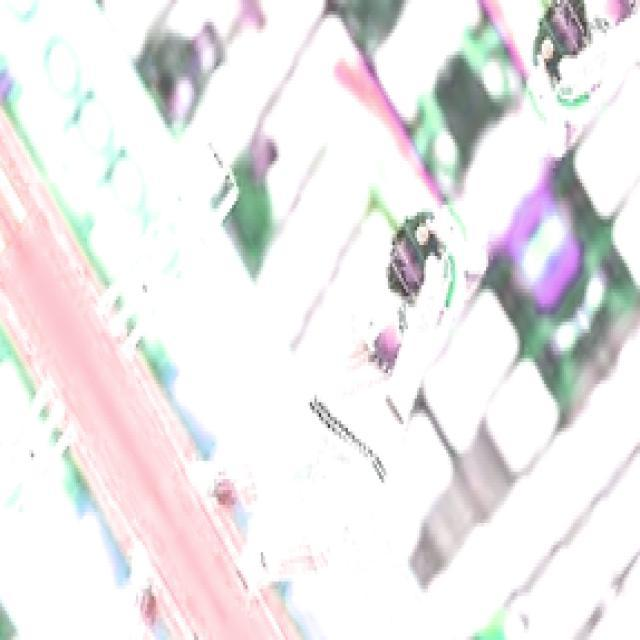bat: (379, 278, 444, 430)
toe: (379, 393, 409, 429)
